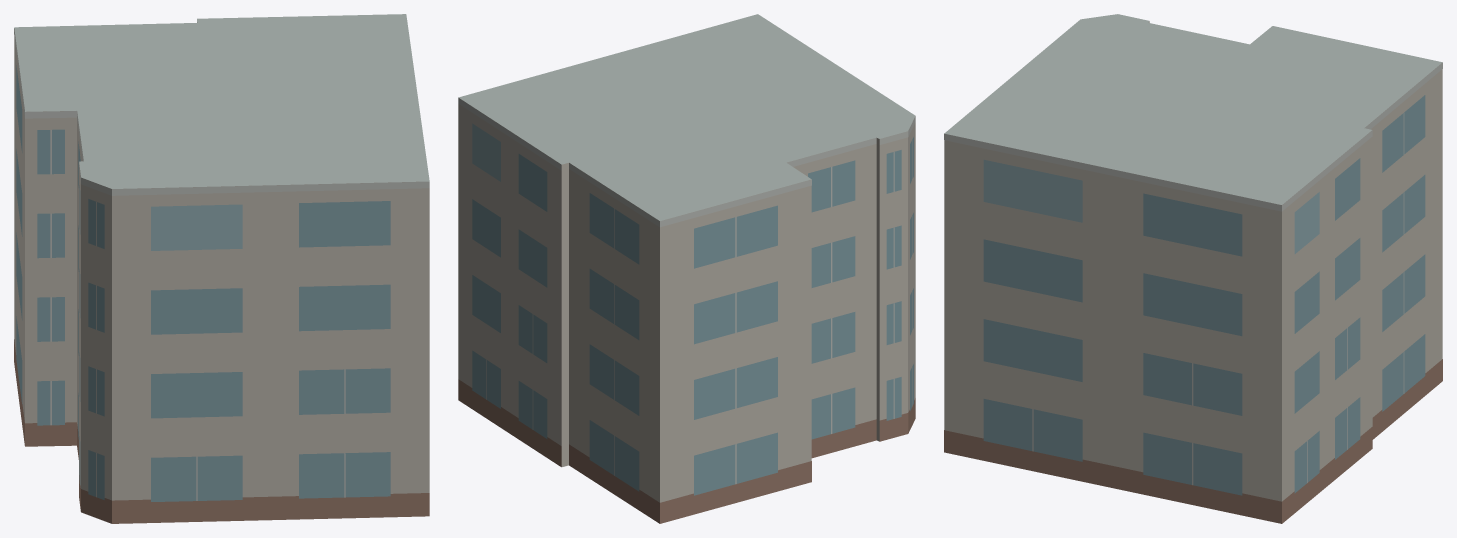
File: survey-upis-32966106.glb
3 renders of one model, left to right at view 1: azimuth 30°, elevation 25°; view 2: azimuth 150°, elevation 25°; view 3: azimuth 270°, elevation 25°, orthographic. The views are drawn at different scales.
Parts seen in each view (by area): view 1: survey-upis-32966106.tmp; view 2: survey-upis-32966106.tmp; view 3: survey-upis-32966106.tmp.
Part boxes in pixels (box(x1,y1,x2,y2)): survey-upis-32966106.tmp: box(14, 14, 429, 523); survey-upis-32966106.tmp: box(458, 14, 915, 523); survey-upis-32966106.tmp: box(944, 14, 1442, 523).
Size of the model in its own units: 15.38 by 11.95 by 16.95.
